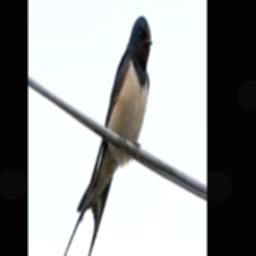Swallow: (55, 16, 152, 256)
